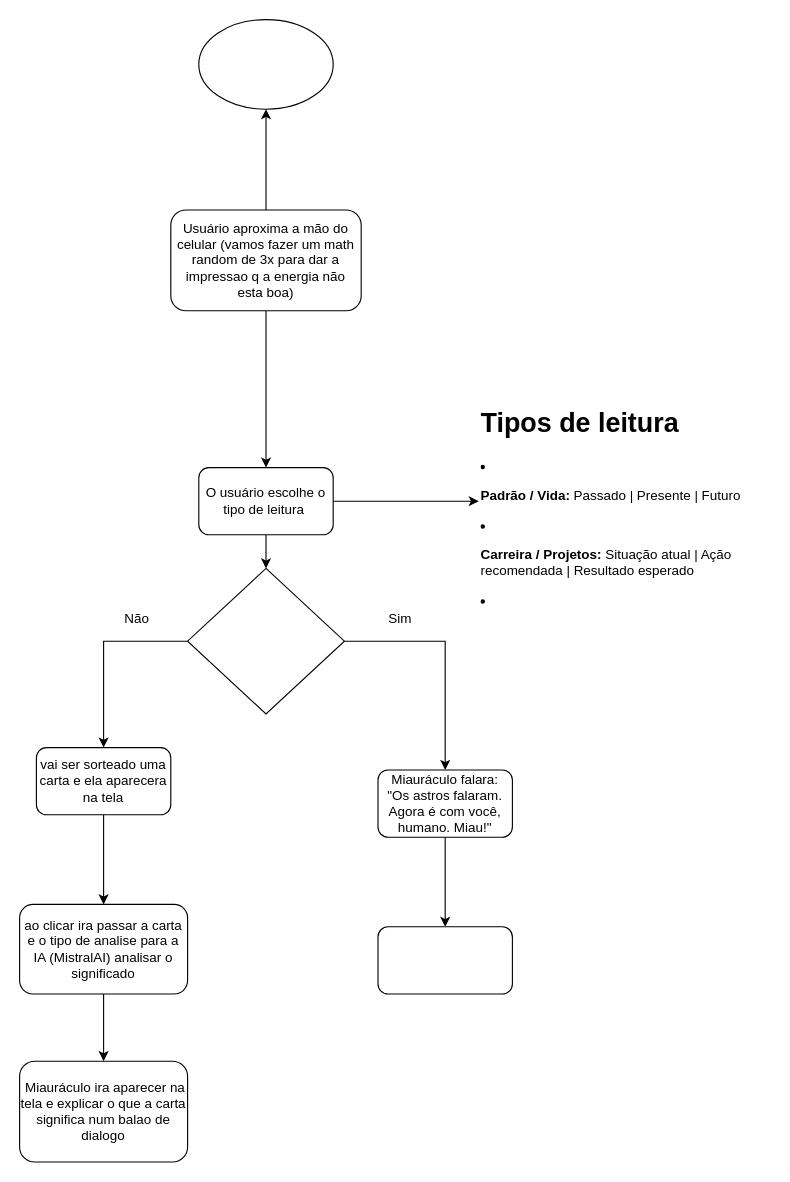
Image size: 790x1182. Some labels were removed from this diagram. The shapes that lost their labels are listed below. From the top down, each one's box as (x1, y1, x2, y2) in pixels, then its label:
(198, 18, 333, 109): Início
(186, 567, 344, 714): Foram sorteadas 3 cartas?
(377, 926, 512, 994): O app volta para a primeira tela
